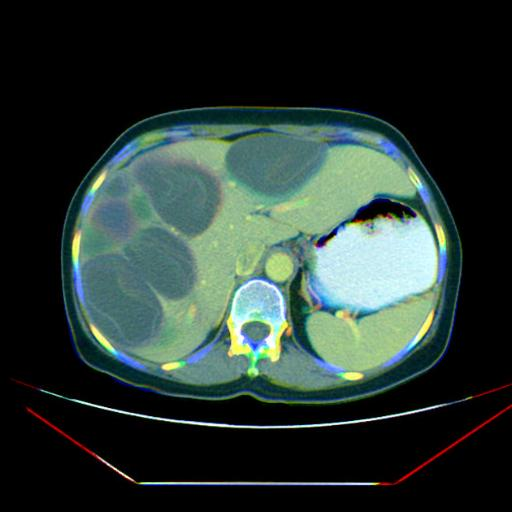Cyst: (81, 254, 161, 346), (136, 156, 222, 236), (225, 134, 326, 196), (125, 227, 195, 299), (90, 197, 135, 242), (81, 228, 108, 256), (130, 191, 155, 221), (106, 171, 133, 197)
